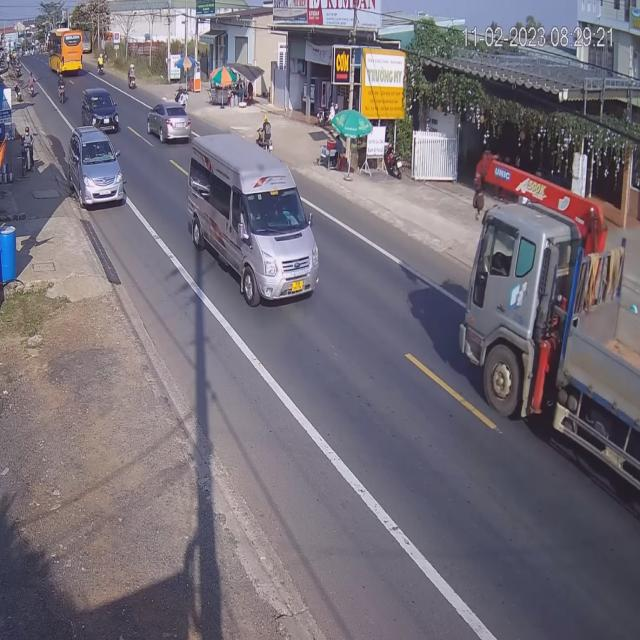bus: (188, 128, 320, 302), (52, 34, 84, 78)
car: (68, 125, 125, 208), (149, 101, 194, 148), (83, 89, 120, 132)
motorbike: (256, 111, 272, 154), (60, 76, 68, 105), (128, 65, 137, 90)
truck: (461, 200, 638, 582)
